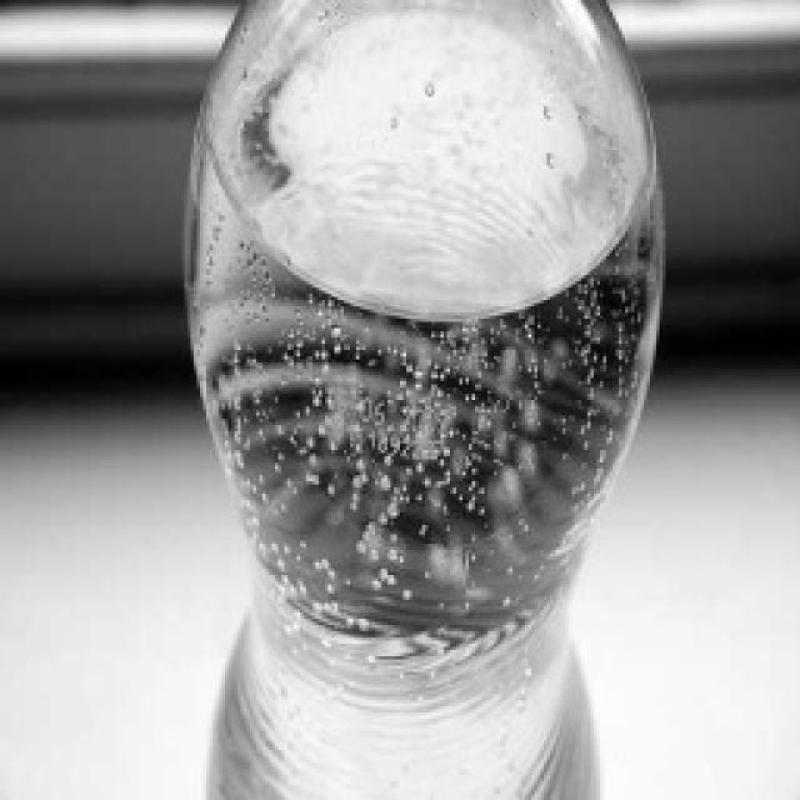botella: (183, 0, 668, 800)
